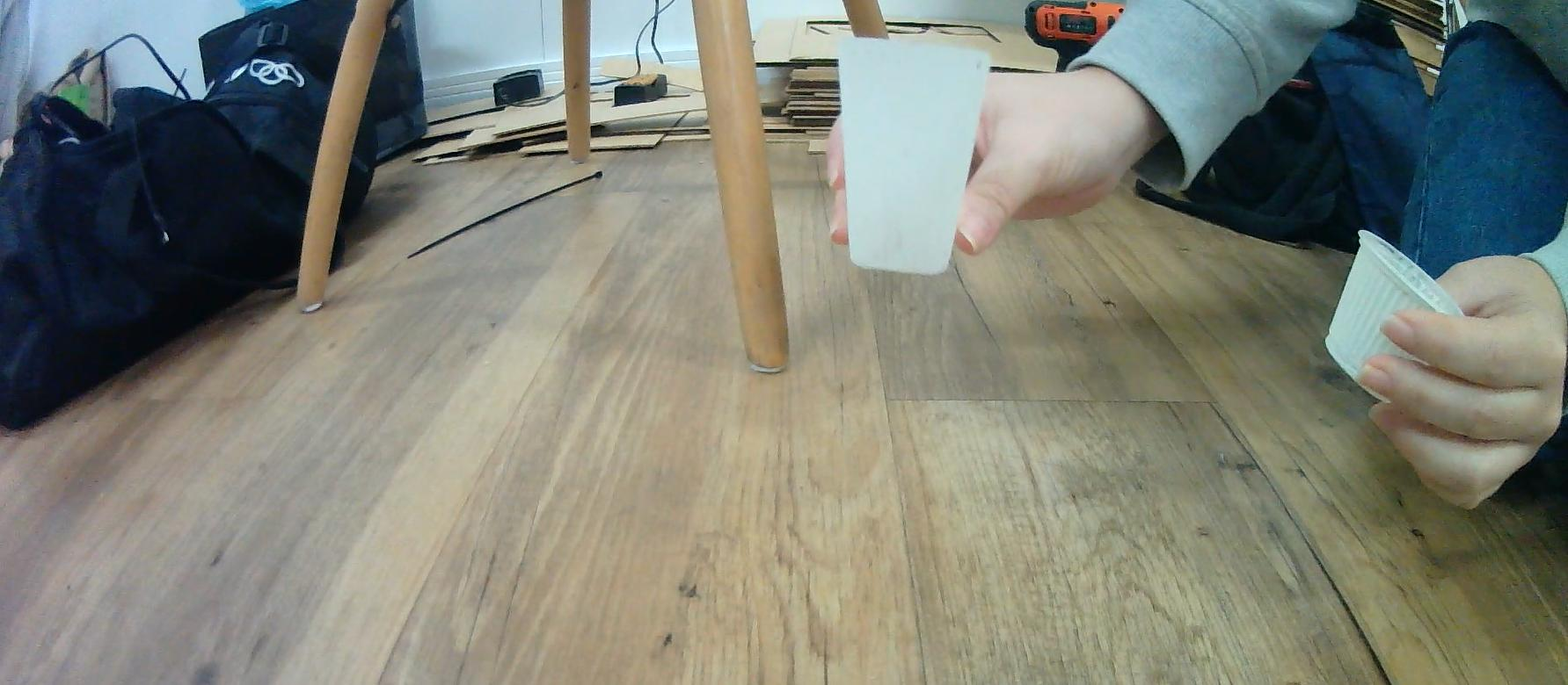erva_daninha: (839, 39, 994, 275)
planta: (1324, 230, 1466, 403)
